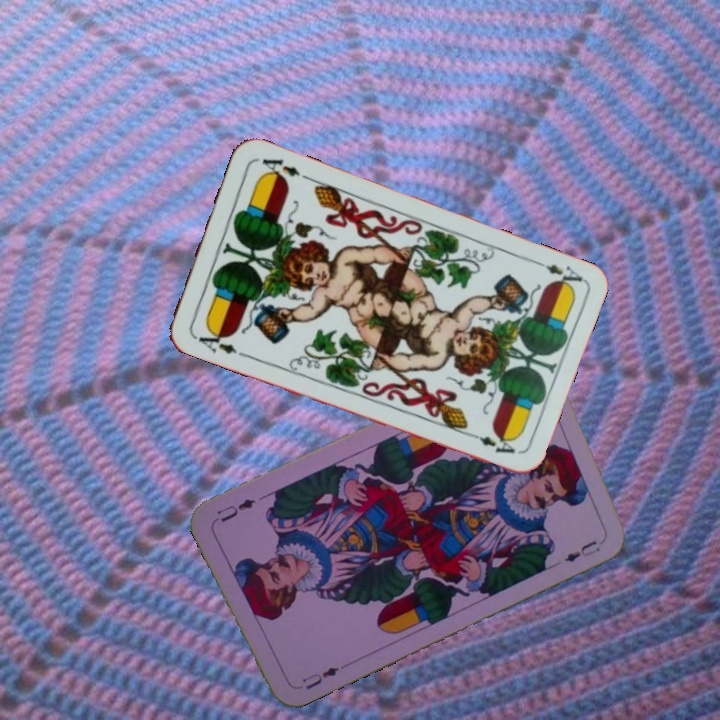EA: (527, 255, 585, 292), (189, 323, 247, 359)
EU: (298, 662, 342, 693)
